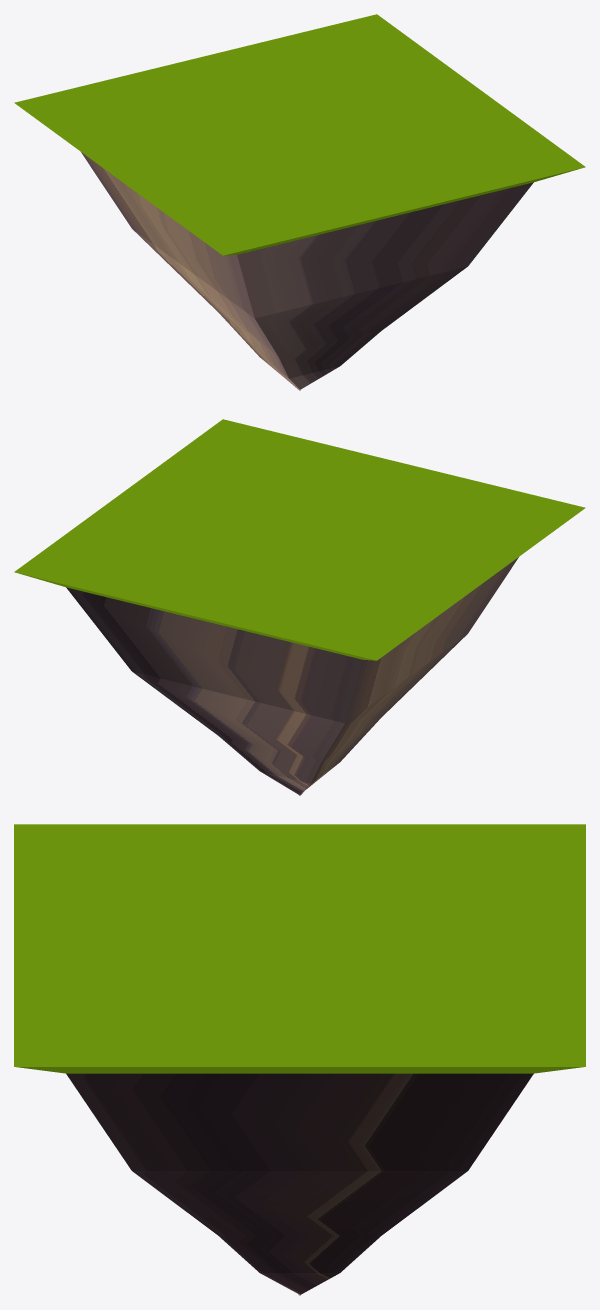
The model's file is island_compressed.glb.
3 views of the same model, one above another, from view 1: azimuth 30°, elevation 25°; view 2: azimuth 150°, elevation 25°; view 3: azimuth 270°, elevation 25° (orthographic). The views are drawn at different scales.
Visible parts, largest first — view 1: Plane.001, Plane; view 2: Plane.001, Plane; view 3: Plane.001, Plane.
Part boxes in pixels (x1,y1,x2,y2): Plane.001: (14, 14, 585, 255); Plane: (81, 152, 533, 390); Plane.001: (14, 419, 585, 660); Plane: (66, 557, 518, 795); Plane.001: (14, 824, 585, 1073); Plane: (66, 1073, 533, 1295).
Size of the model in its own units: 7.18 by 4.83 by 7.16.
Materials: 2 (1 with a texture image).
